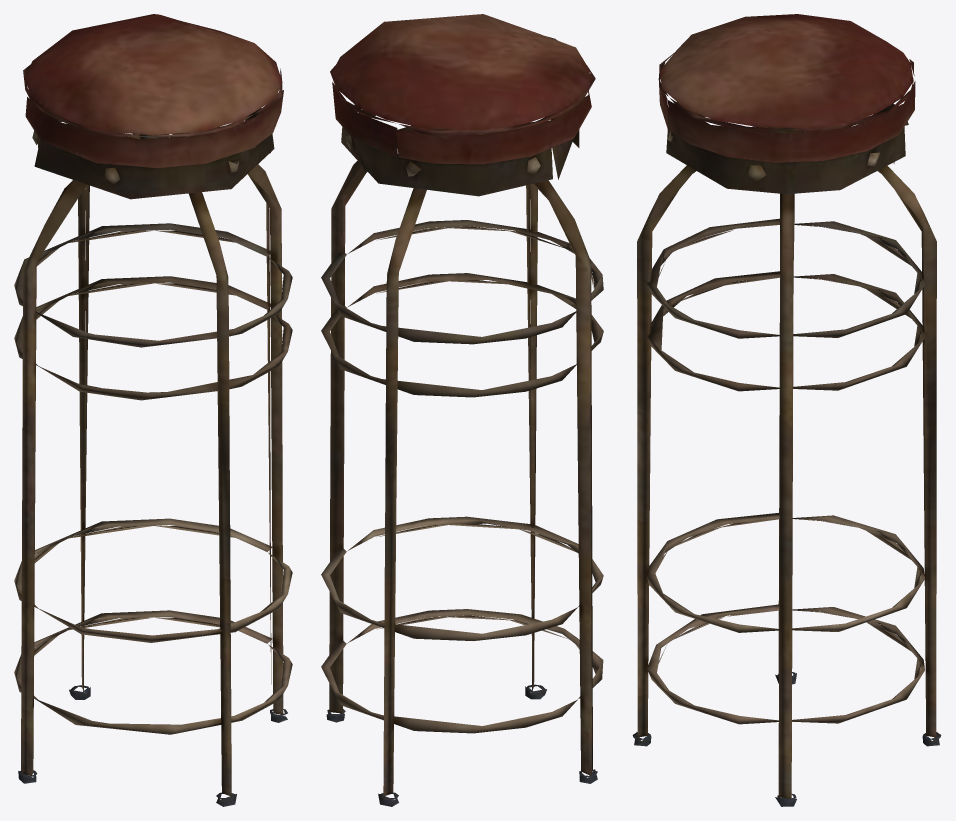
The model's file is stool.glb.
The picture shows the model from 3 angles, left to right: view 1: azimuth 30°, elevation 25°; view 2: azimuth 150°, elevation 25°; view 3: azimuth 270°, elevation 25°; orthographic projection.
Visible parts, largest first — view 1: stool; view 2: stool; view 3: stool.
Boxes of the visible parts, x1=… form: stool: x1=14, y1=14, x2=292, y2=806; stool: x1=321, y1=14, x2=603, y2=806; stool: x1=632, y1=14, x2=941, y2=806.
Size of the model in its own units: 0.352 by 0.8809 by 0.3547.
Materials: 1 (1 with a texture image).
